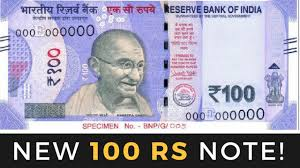hundred: (14, 19, 273, 109)
